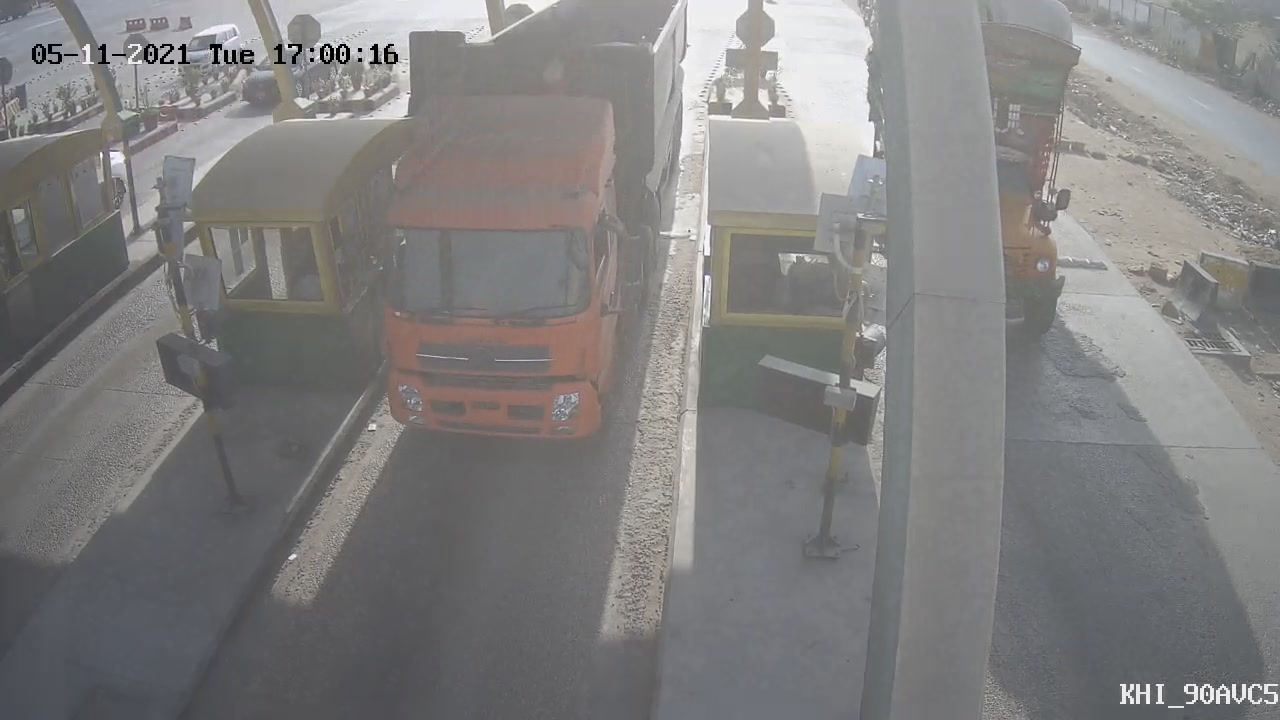F6: (326, 1, 713, 474)
